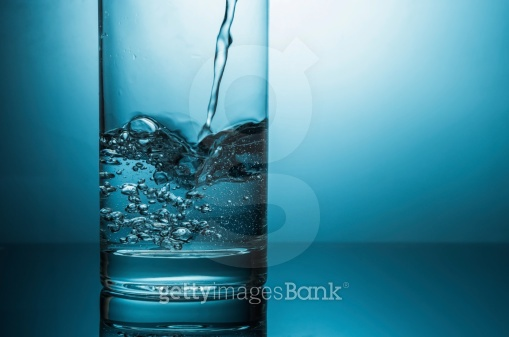glass of water: (81, 2, 275, 335)
